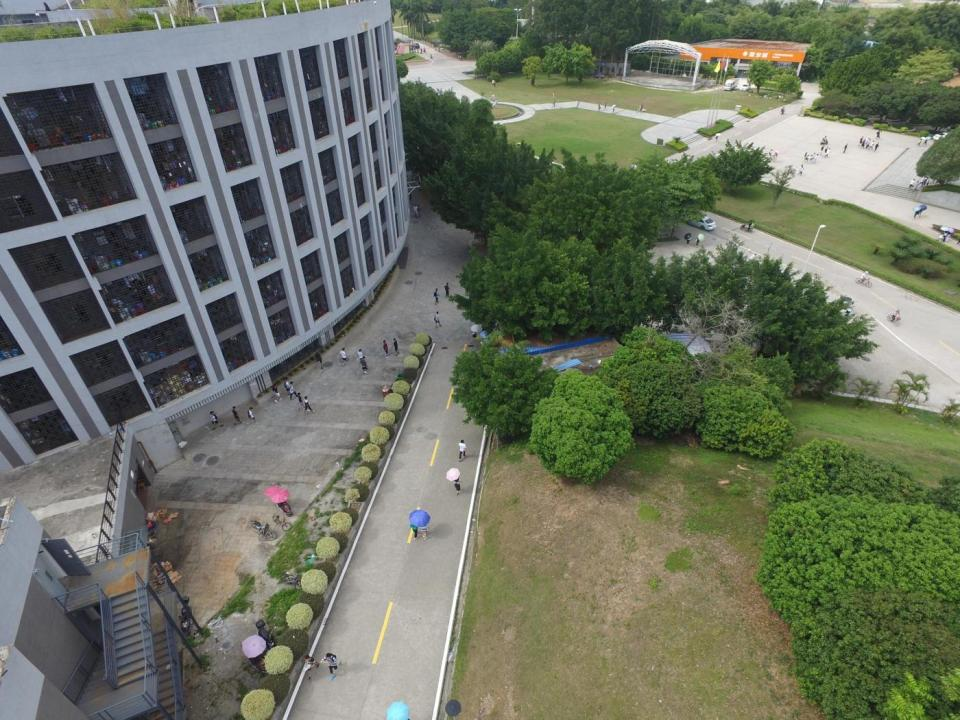car: (682, 209, 717, 231), (932, 131, 949, 141), (739, 82, 752, 91), (592, 74, 604, 80), (412, 42, 420, 49)
truck: (722, 78, 740, 91)
